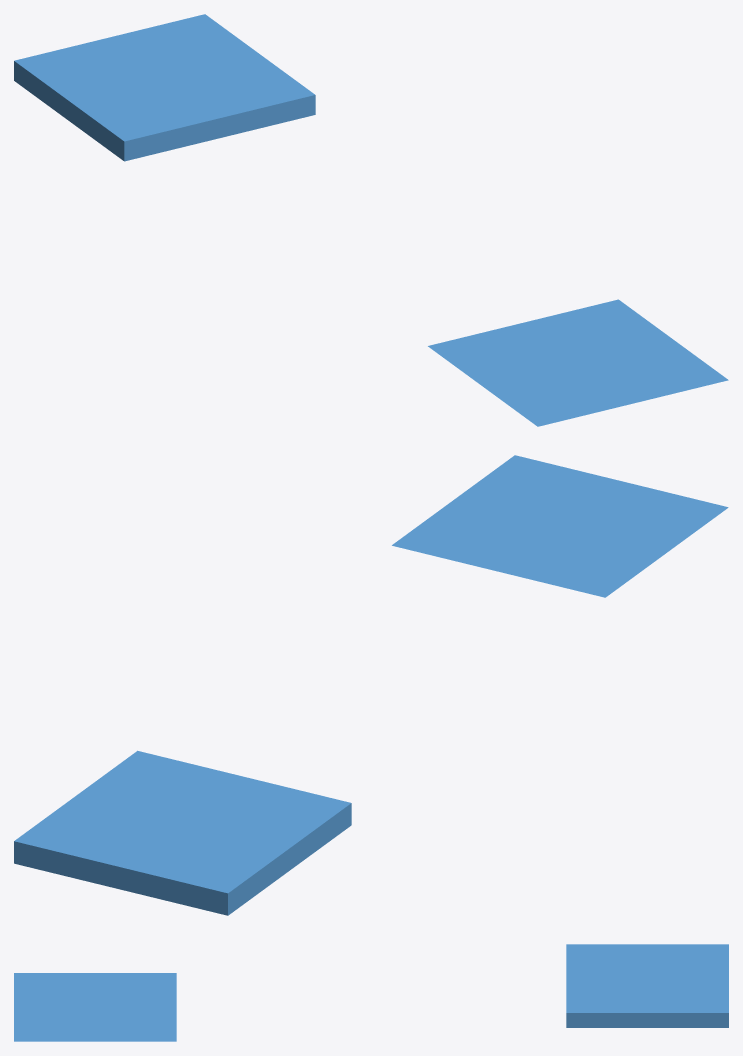
The model's file is TempA_Ceilings_Low.fbx.
3 renders of one model, top to bottom at view 1: azimuth 30°, elevation 25°; view 2: azimuth 150°, elevation 25°; view 3: azimuth 270°, elevation 25°, orthographic. The views are drawn at different scales.
Parts seen in each view (by area): view 1: TempA_ThickCeiling_01, TempA_ThinCeiling_01; view 2: TempA_ThickCeiling_01, TempA_ThinCeiling_01; view 3: TempA_ThickCeiling_01, TempA_ThinCeiling_01.
Boxes of the visible parts, x1,y1,x2,y2 form: TempA_ThickCeiling_01: (14,14,315,161); TempA_ThinCeiling_01: (428,299,728,426); TempA_ThickCeiling_01: (14,750,351,915); TempA_ThinCeiling_01: (392,455,728,597); TempA_ThickCeiling_01: (566,944,728,1027); TempA_ThinCeiling_01: (14,973,176,1041).
Size of the model in its own units: 6 by 0.5 by 22.
